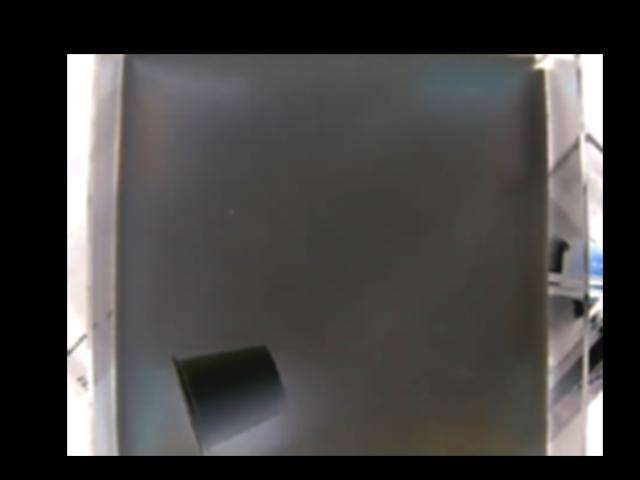Cup: (172, 342, 286, 455)
